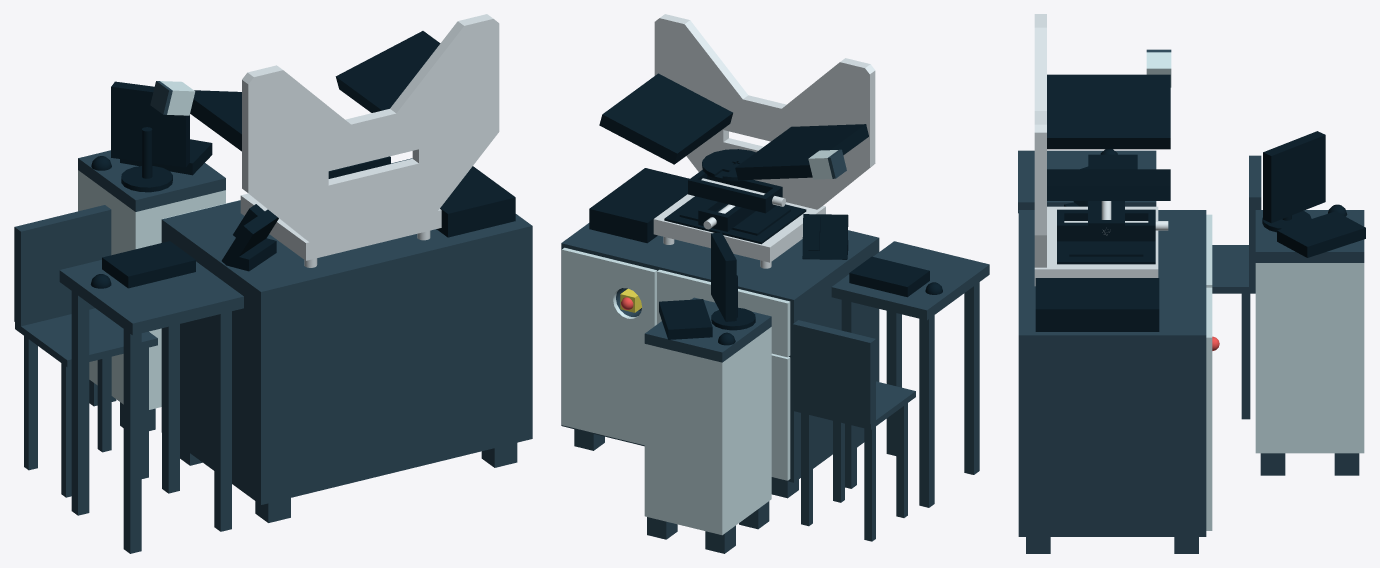
File: ProbeTester.glb
3 renders of one model, left to right at view 1: azimuth 30°, elevation 25°; view 2: azimuth 150°, elevation 25°; view 3: azimuth 270°, elevation 25°, orthographic. The views are drawn at different scales.
Visible parts, largest first — view 1: machine 1; view 2: machine 1; view 3: machine 1.
Boxes of the visible parts, x1,y1,x2,y2 form: machine 1: (14,14,532,553); machine 1: (561,14,989,553); machine 1: (1018,14,1365,553).
Size of the model in its own units: 1.77 by 1.88 by 1.41.
